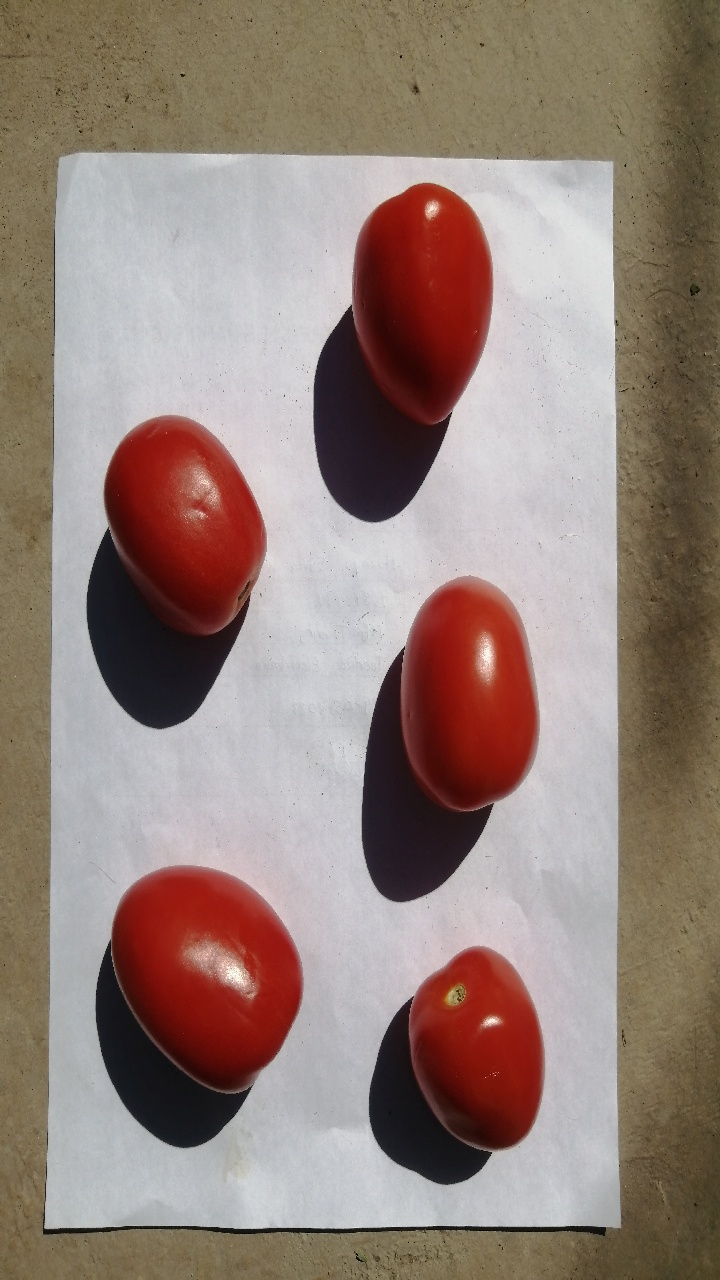tomateRojo: (100, 837, 309, 1111), (329, 165, 528, 432), (368, 559, 549, 829), (100, 392, 281, 649), (383, 919, 552, 1183)
